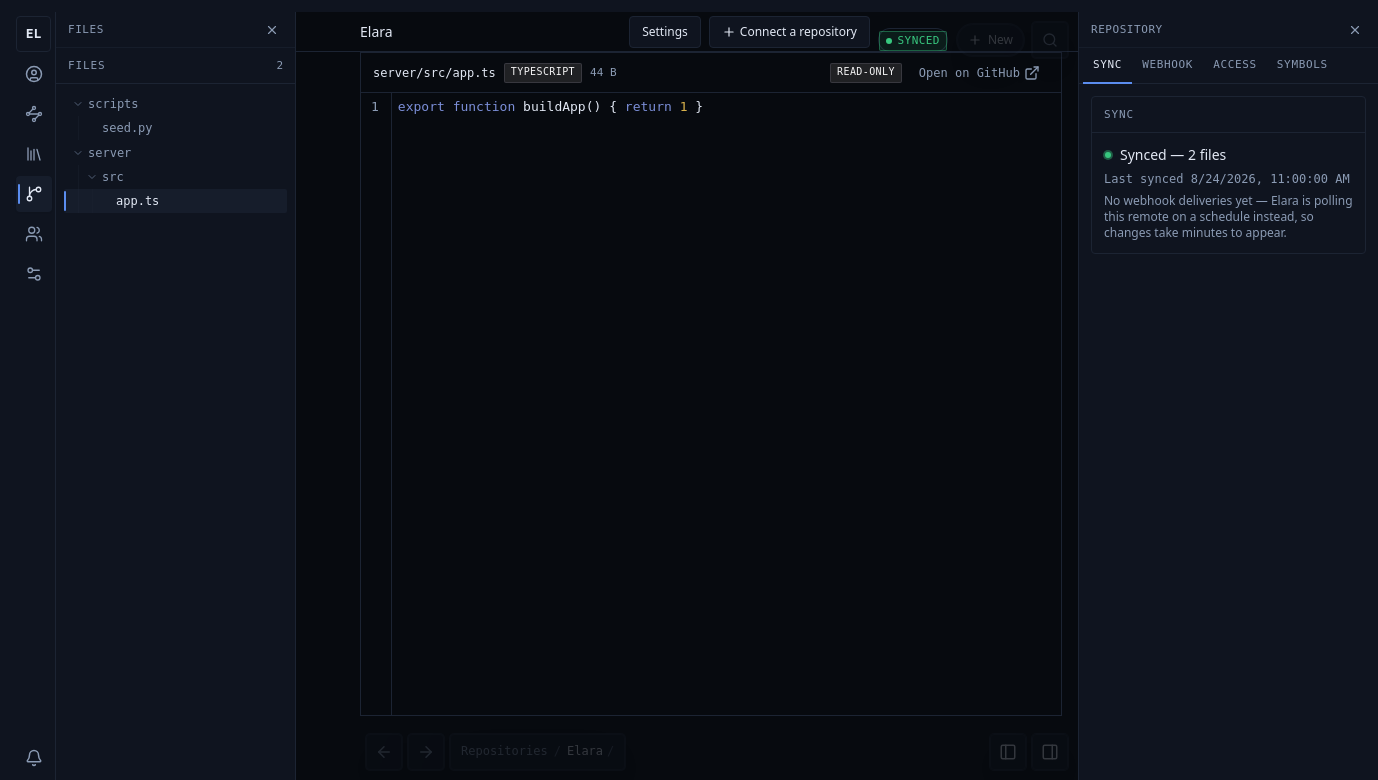
Test: RepositoryPage route › switching files in the tree loads that file at its own URL
Expected: the field named "server/src/app.ts (read-only)" is shown, [398,99,703,114]
Click the link with aria-label "scripts/seed.py" at coordinates (127, 128), box [102,121,153,135]
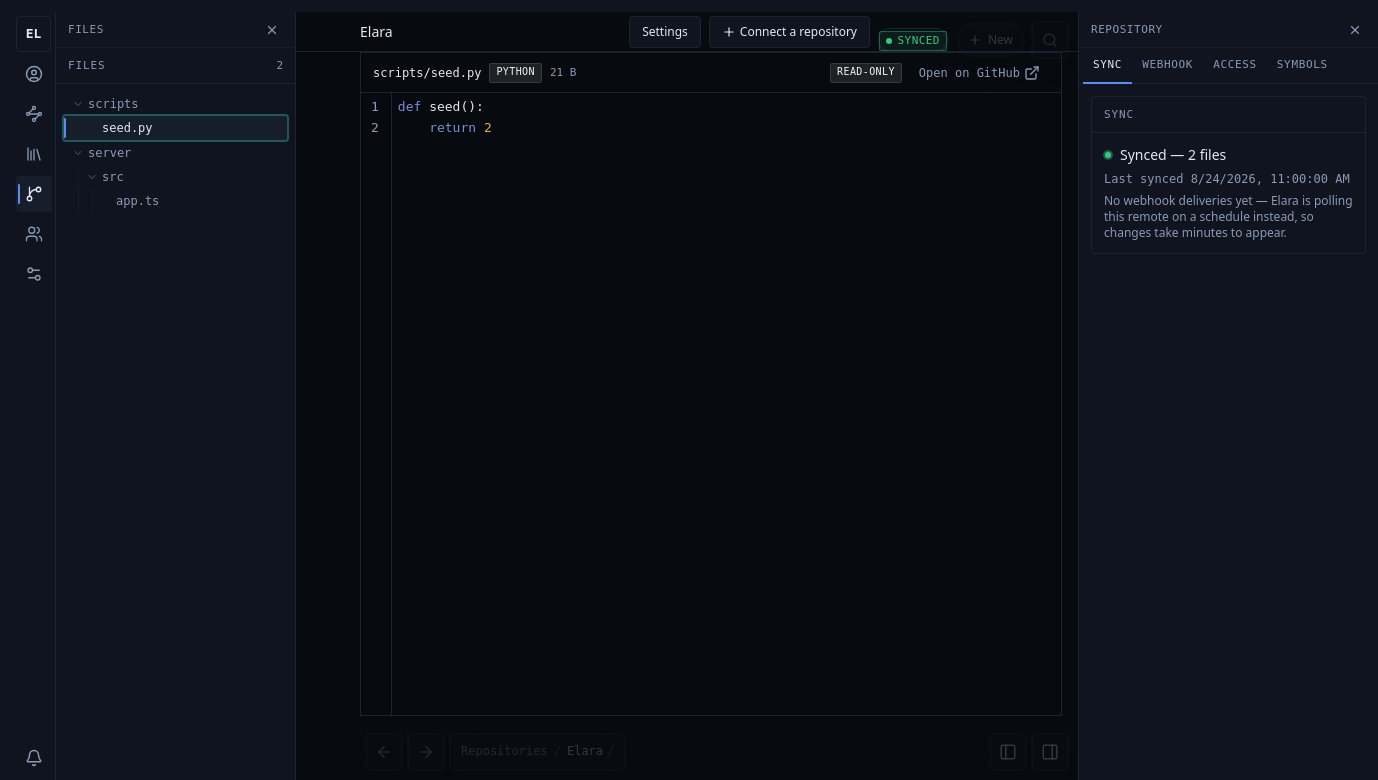
Now the field named "scripts/seed.py (read-only)" shows "def seed():", box [398,99,492,135]
